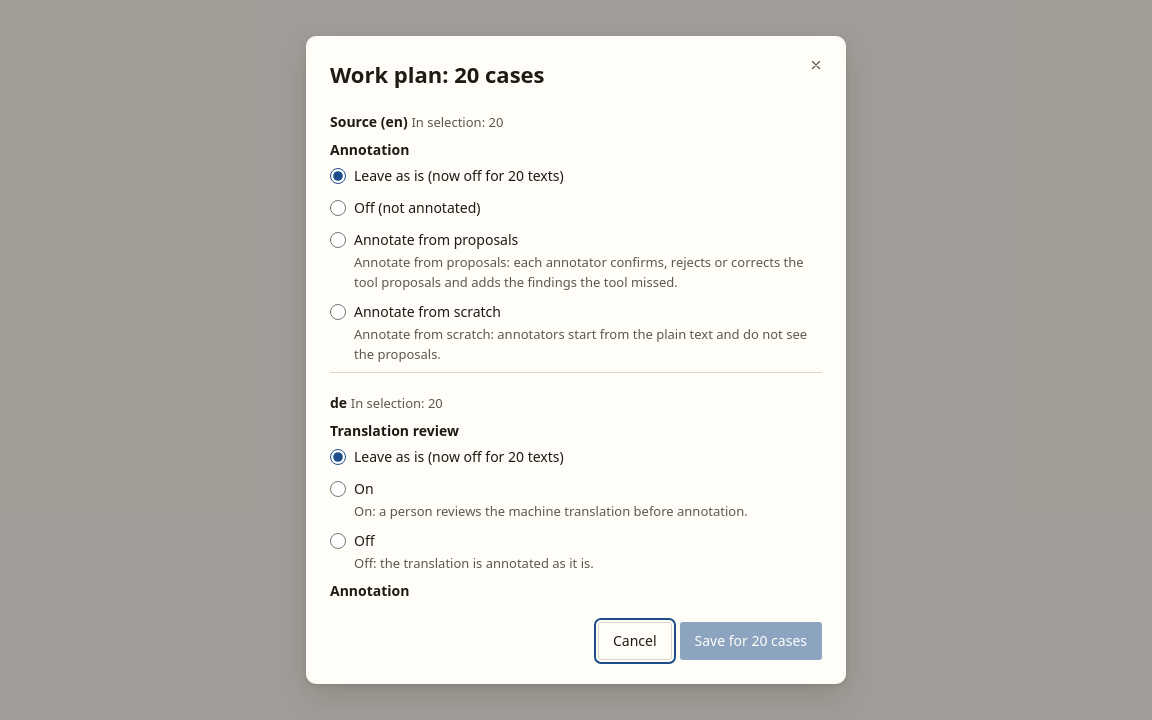
Test: PlanDialog › previews and shows the Will change summary as a live region
The width and height of the screenshot is (1152, 720).
Click the radio button labelled "On" at (338, 489), box [330, 481, 346, 497]
(page scrolled)
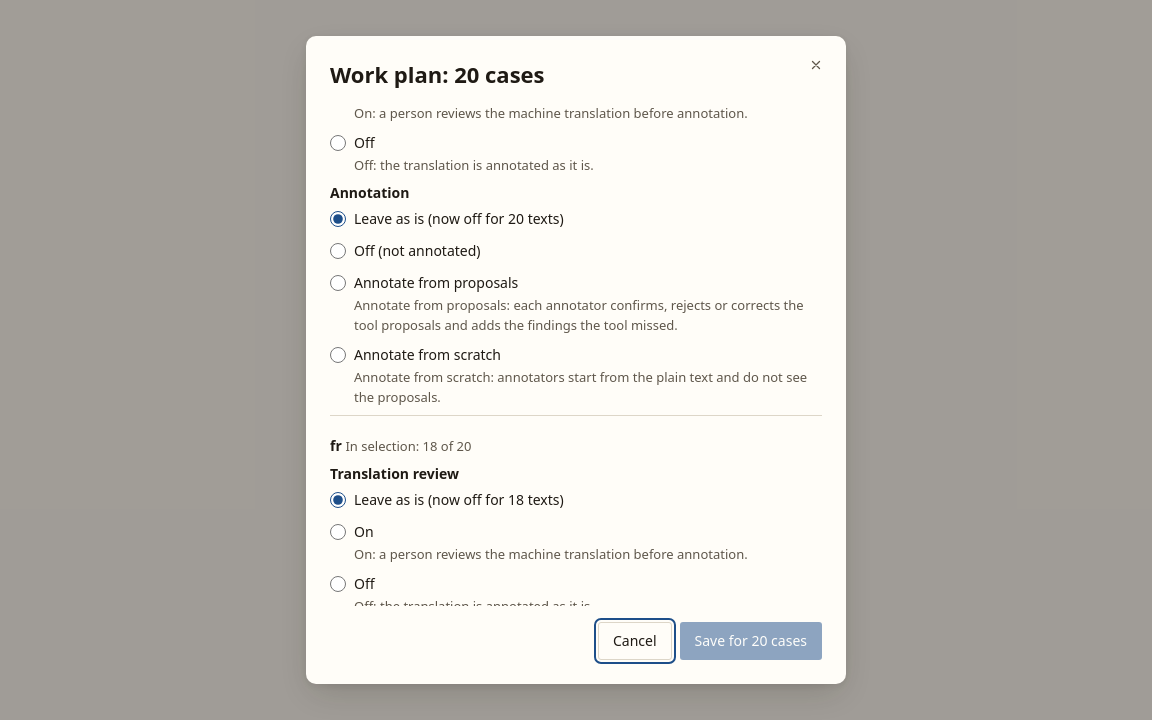
Click the radio button labelled "Annotate from scratch" at (338, 355), box [330, 347, 346, 363]
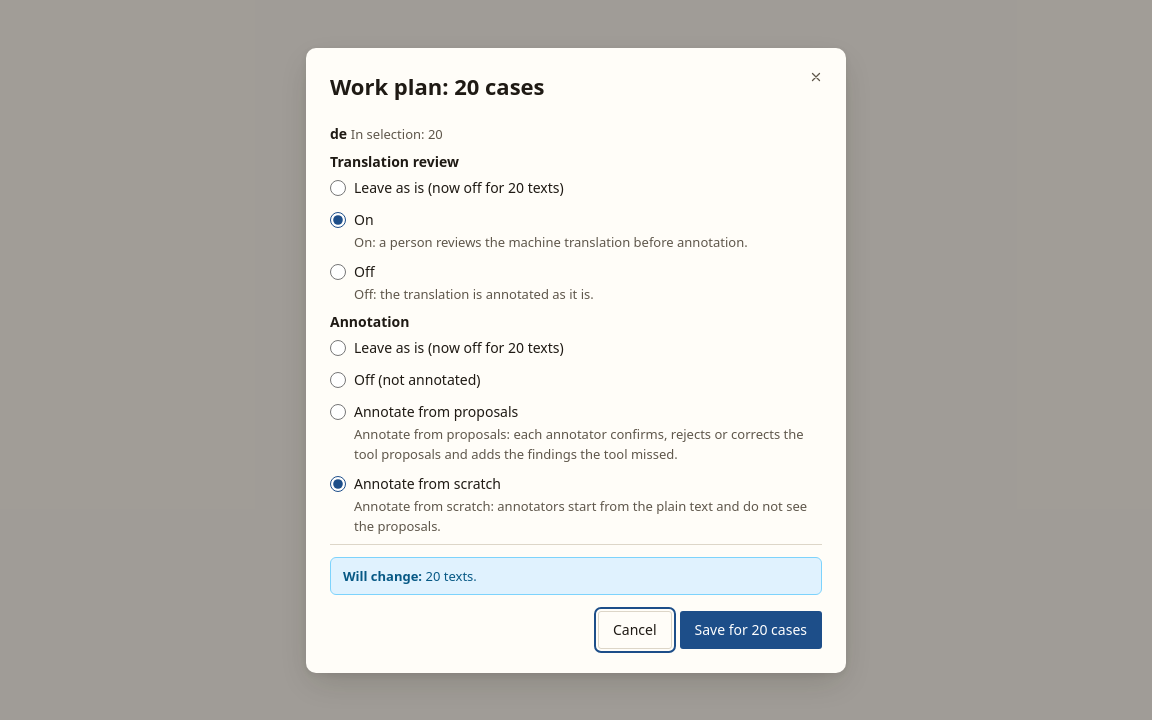
Check: the element showing "Will change: 20 texts." is shown, box [330, 556, 822, 594]
